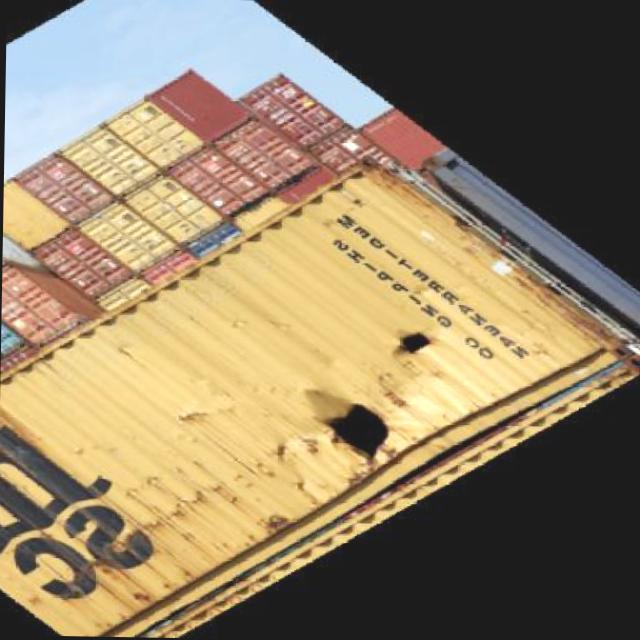hole: (315, 383, 401, 473), (377, 302, 454, 379)
rust: (143, 437, 299, 532)
